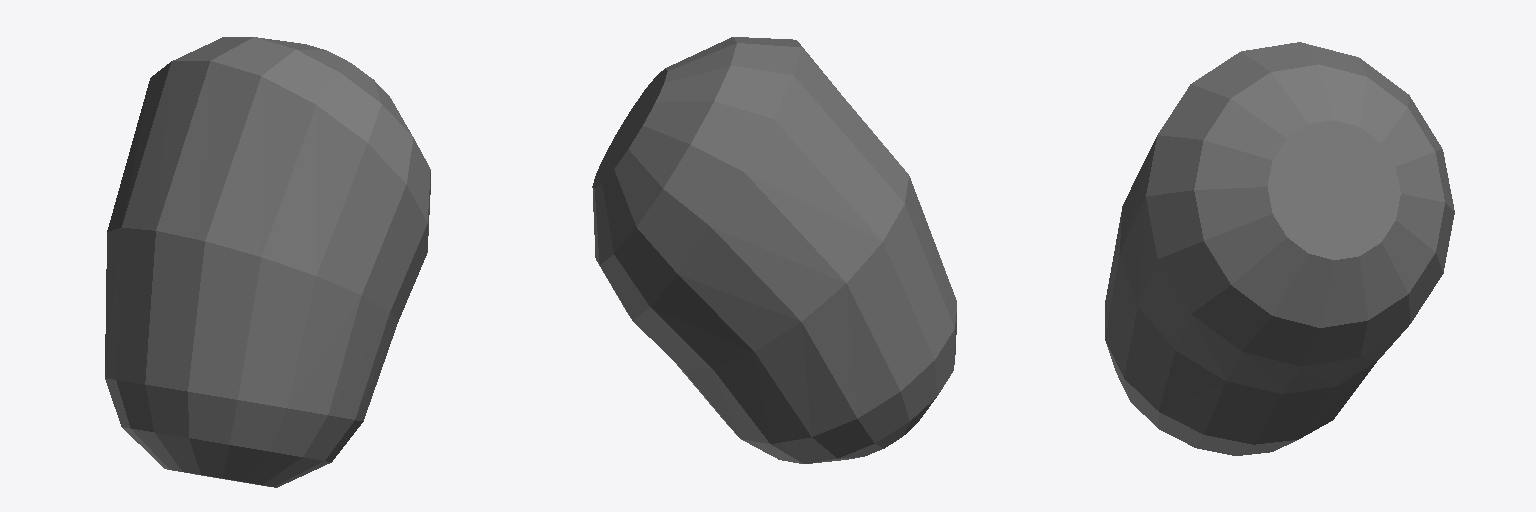
Rendered from uplegR.obj.
3 renders of one model, left to right at view 1: azimuth 30°, elevation 25°; view 2: azimuth 150°, elevation 25°; view 3: azimuth 270°, elevation 25°, orthographic.
Visible parts, largest first — view 1: body:uplegR; view 2: body:uplegR; view 3: body:uplegR.
Part boxes in pixels (x1,y1,x2,y2): body:uplegR: (105,37,430,487); body:uplegR: (592,37,956,463); body:uplegR: (1105,42,1454,455).
Size of the model in its own units: 1.1 by 1.38 by 1.09.